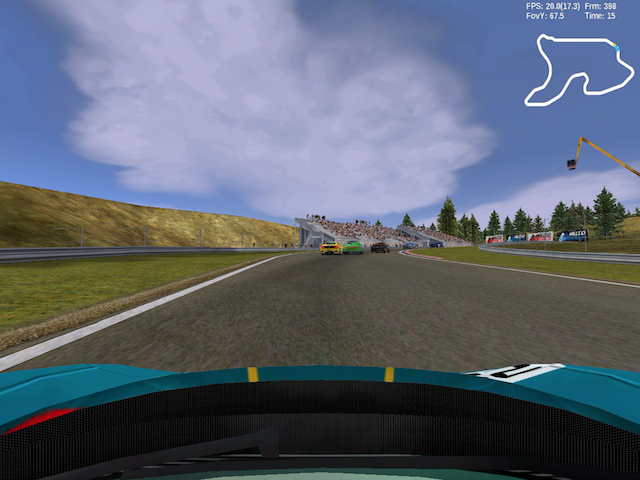Boxer96: (342, 241, 364, 255)
Cavallo360: (319, 242, 343, 255)
Lynx220: (404, 243, 418, 250)
Spirit300: (371, 242, 392, 254)
